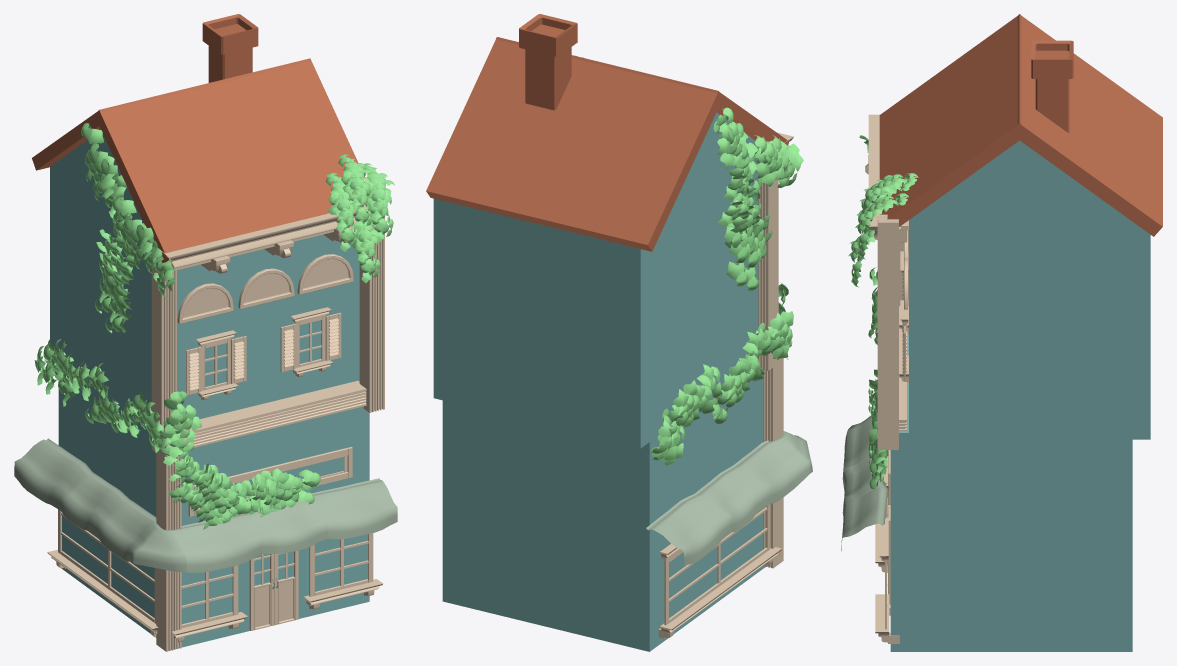
Rendered from DowntownHouse44.fbx.
The picture shows the model from 3 angles, left to right: view 1: azimuth 30°, elevation 25°; view 2: azimuth 150°, elevation 25°; view 3: azimuth 270°, elevation 25°; orthographic projection. The views are drawn at different scales.
Parts seen in each view (by area): view 1: polySurface80, polySurface95, polySurface94; view 2: polySurface80, polySurface95, polySurface94; view 3: polySurface80, polySurface95, polySurface94.
Boxes of the visible parts, x1,y1,x2,y2 form: polySurface80: (34, 123, 394, 651); polySurface95: (32, 14, 364, 262); polySurface94: (14, 438, 397, 572); polySurface80: (433, 55, 803, 651); polySurface95: (426, 14, 789, 251); polySurface94: (646, 431, 812, 565); polySurface80: (848, 114, 1150, 651); polySurface95: (879, 14, 1162, 236); polySurface94: (841, 415, 887, 551).
Bounding box in the file's own units: 31.42 × 63.27 × 32.42.
